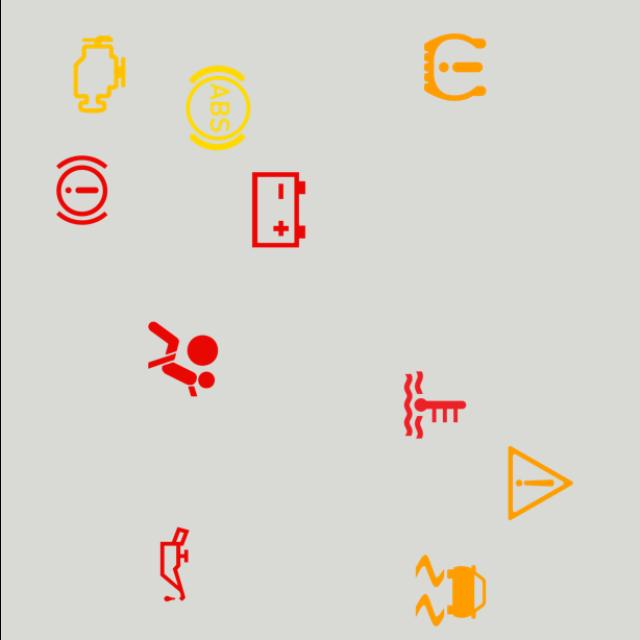Anti Lock Braking System: (171, 62, 264, 154)
Braking System Issue: (34, 144, 128, 236)
Charging System Issue: (232, 164, 324, 256)
Check Engine: (52, 28, 145, 121)
Electronic Stability Problem -ESP-: (404, 544, 496, 637)
Engine Overheating Warning Light: (388, 358, 480, 452)
Low Engine Oil Warning Light: (127, 518, 220, 611)
Low Tire Pressure Warning Light: (408, 20, 500, 114)
Master warning light: (493, 436, 586, 530)
SRS-Airbag: (136, 312, 228, 406)
